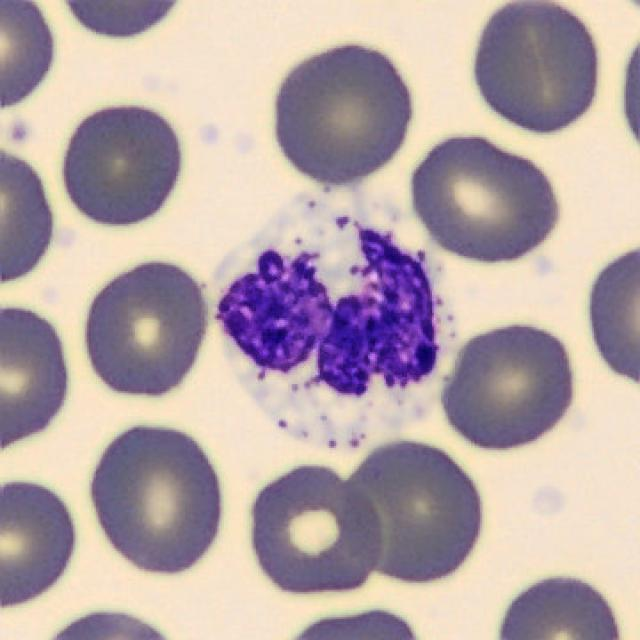Linfocito atipico: (212, 192, 455, 450)
